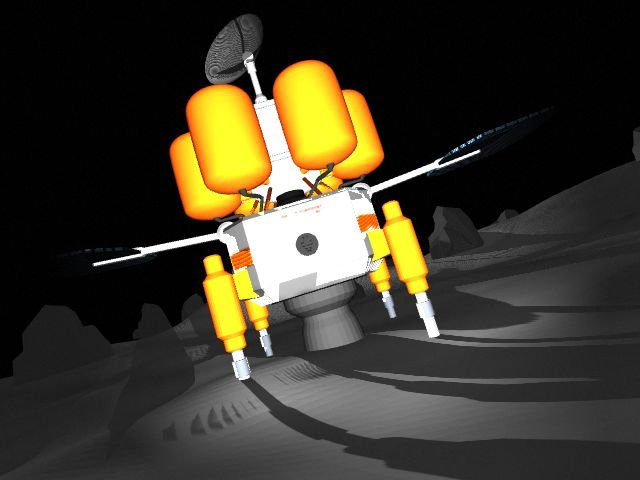homebase: (15, 11, 568, 381)
